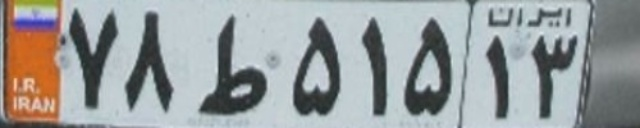1: (479, 33, 513, 118), (359, 16, 387, 115)
3: (527, 33, 575, 119)
5: (289, 15, 342, 115), (403, 15, 451, 116)
7: (67, 5, 116, 109)
8: (124, 8, 174, 112)
taa: (195, 14, 270, 115)
